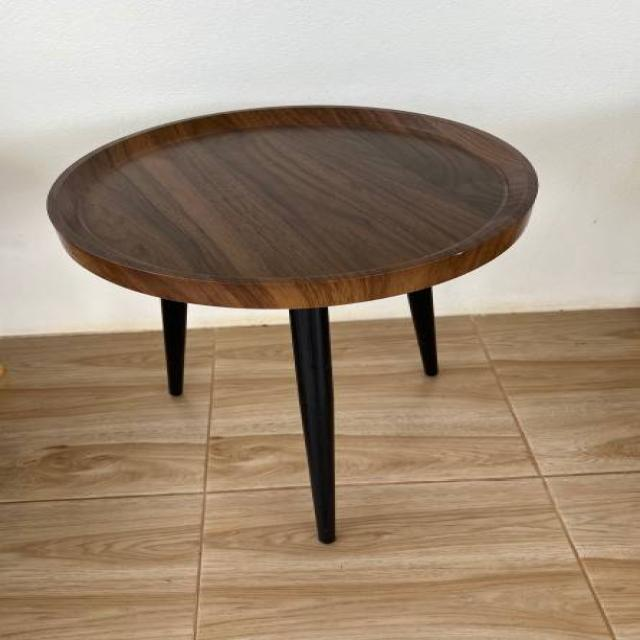table: (44, 103, 540, 544)
